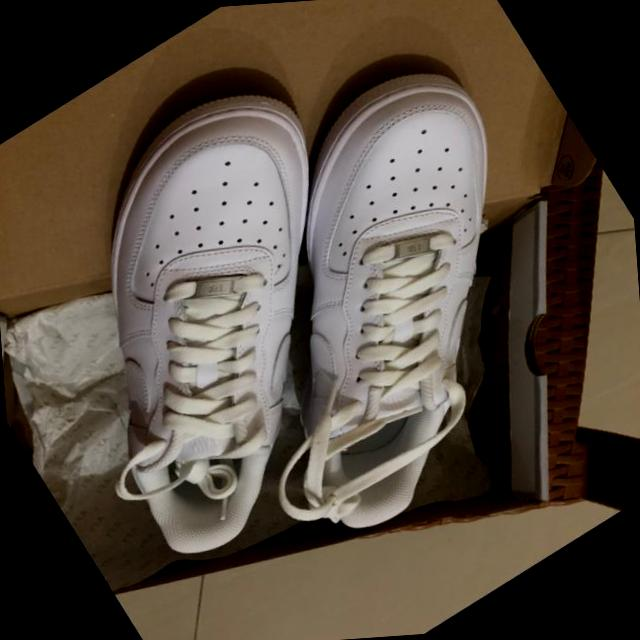nike_original_airforce: (125, 25, 640, 565), (0, 38, 499, 584)
